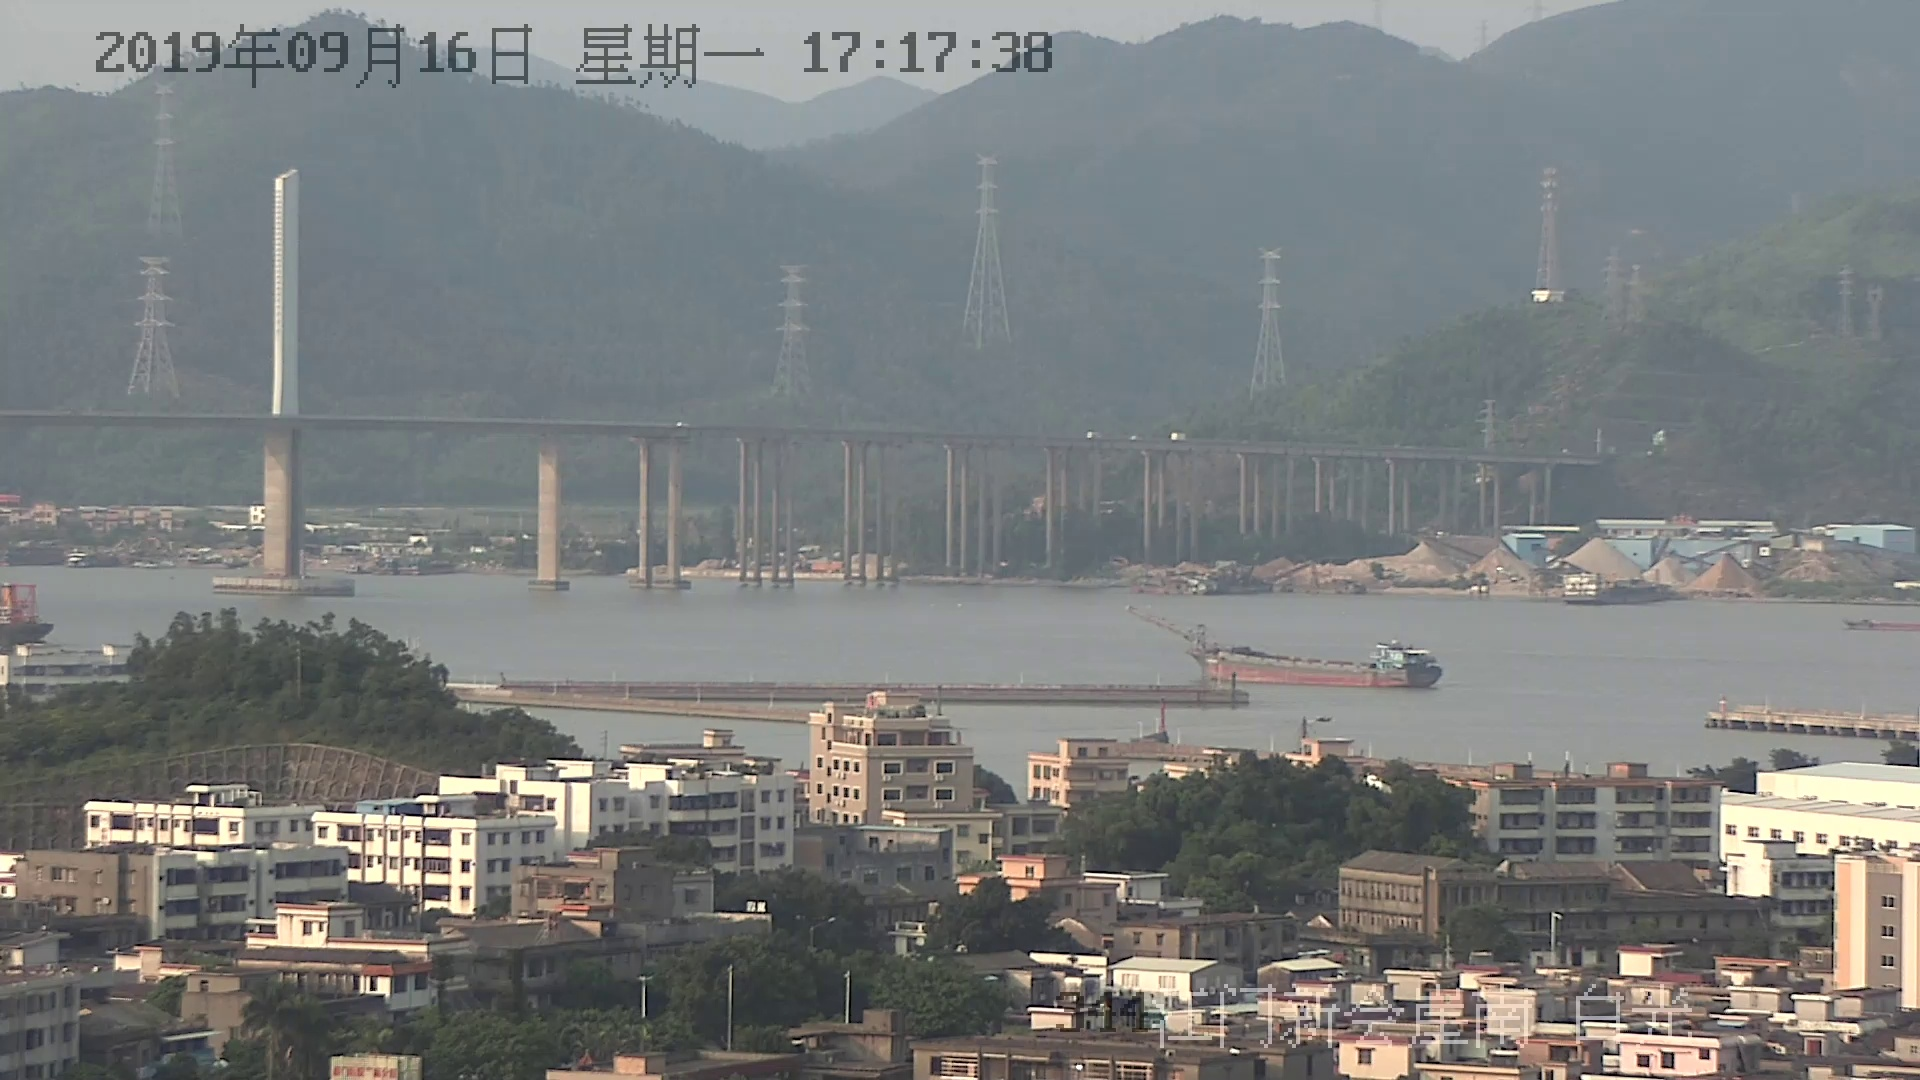ship: (1185, 626, 1443, 687), (1, 584, 55, 651)
